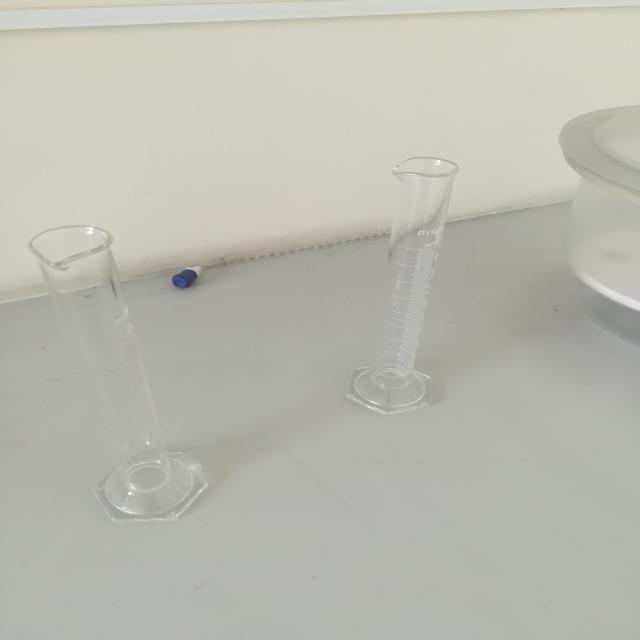Measuring_Cylinder: (15, 197, 234, 538), (334, 126, 481, 433)
